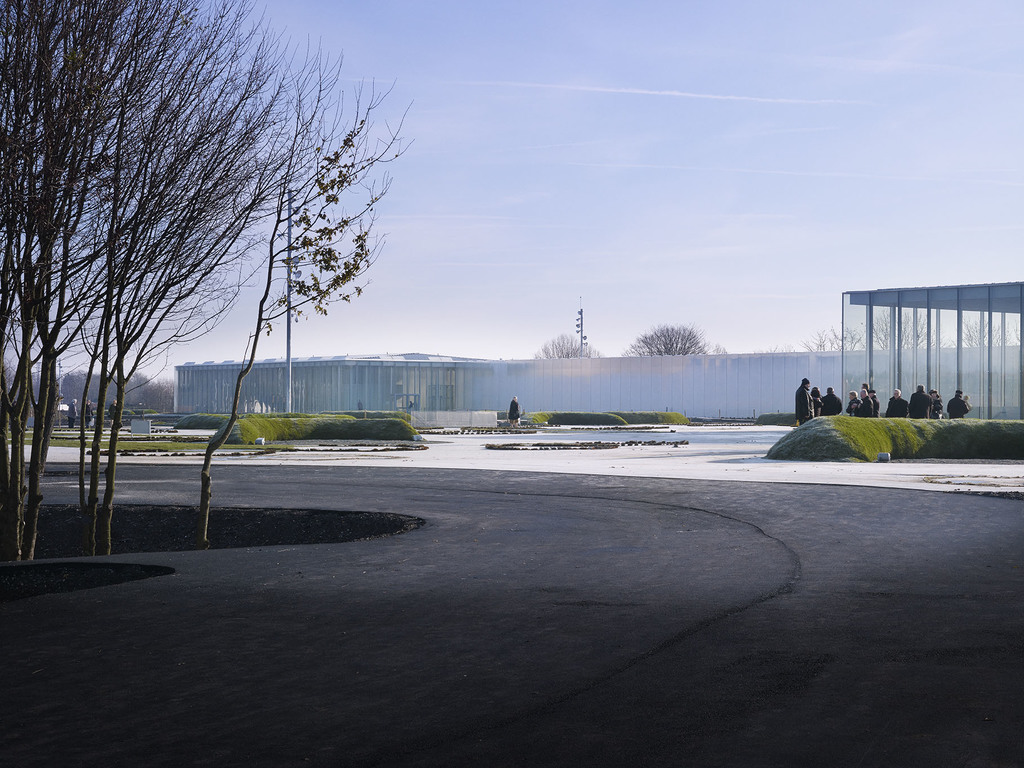Tree: (0, 0, 419, 560), (620, 323, 715, 362), (870, 303, 942, 351), (533, 332, 604, 359)
